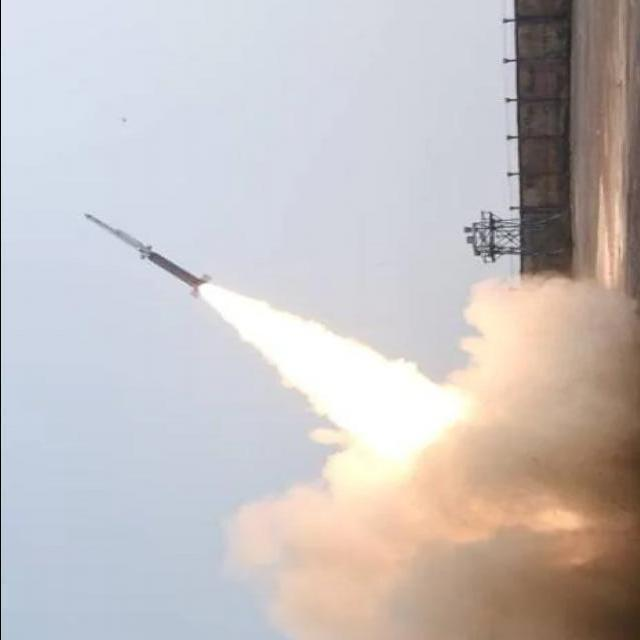missile: (79, 208, 210, 299)
